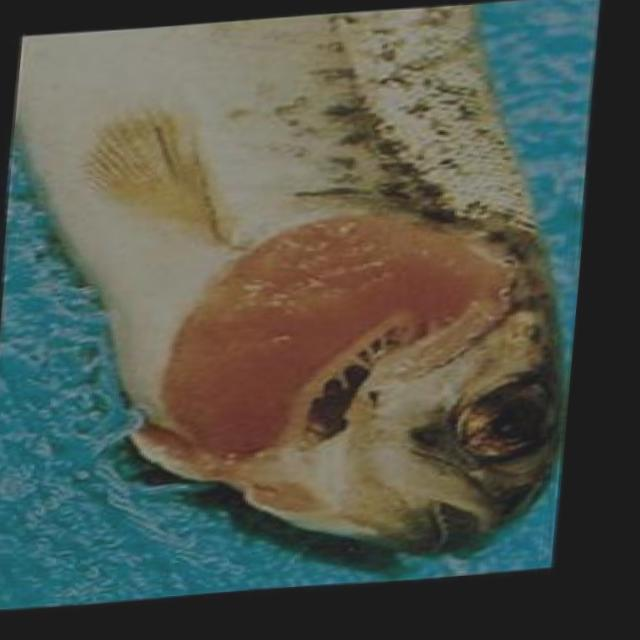Gill Disease: (69, 137, 556, 548)
